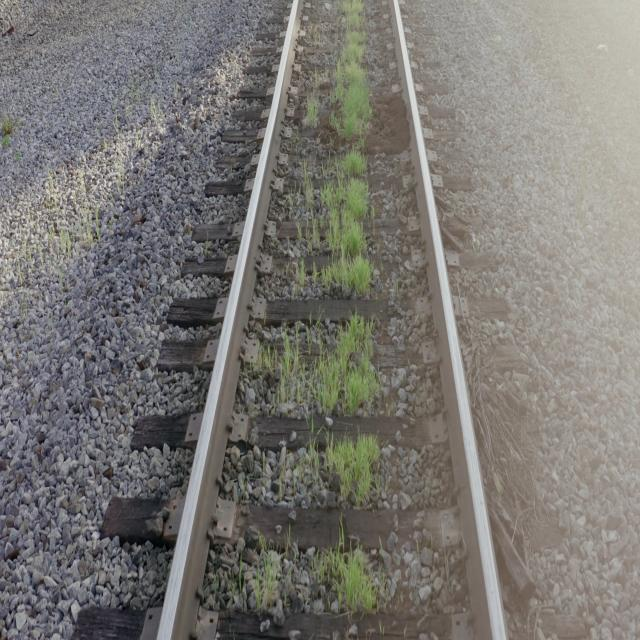Plant: (312, 0, 375, 298), (274, 318, 379, 418), (320, 544, 378, 613), (325, 436, 380, 502), (321, 549, 379, 611), (256, 551, 279, 604), (304, 169, 315, 213), (308, 96, 319, 124)
